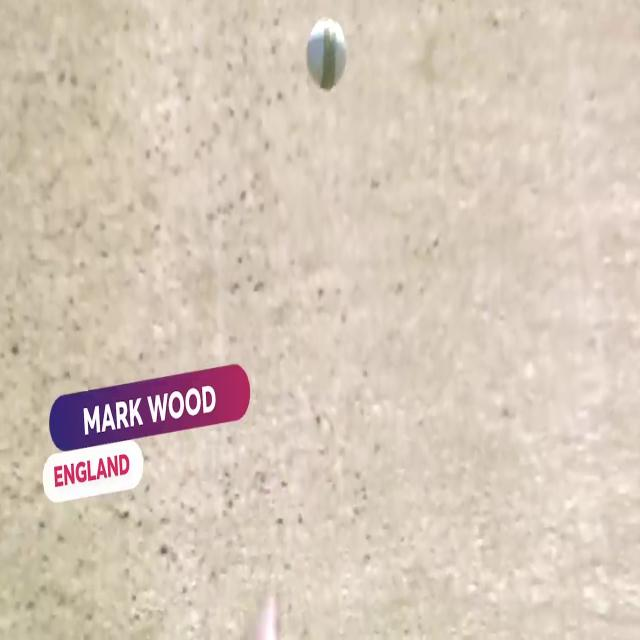ball: (301, 10, 352, 97)
